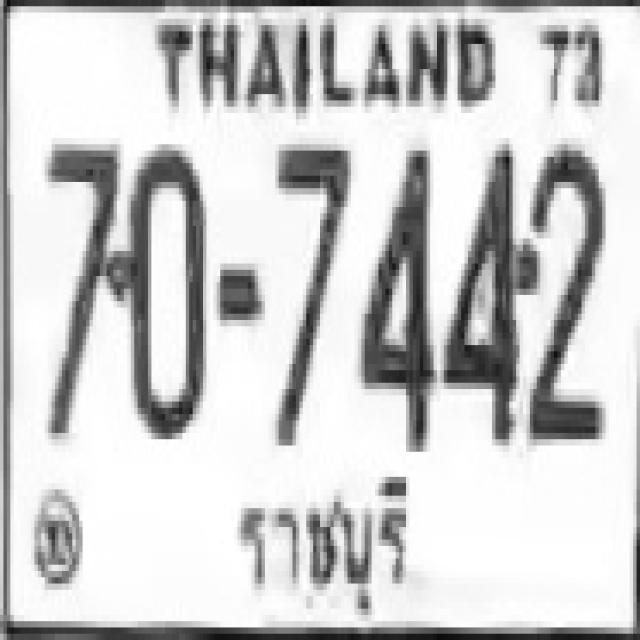0: (120, 138, 203, 433)
2: (523, 138, 602, 433)
4: (440, 138, 520, 439), (356, 138, 432, 446)
7: (272, 138, 347, 439), (41, 138, 117, 433)
RBR: (222, 476, 414, 633)
